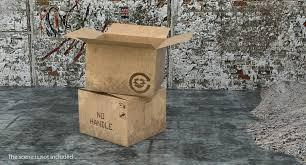box: (64, 23, 193, 98), (78, 87, 167, 148)
